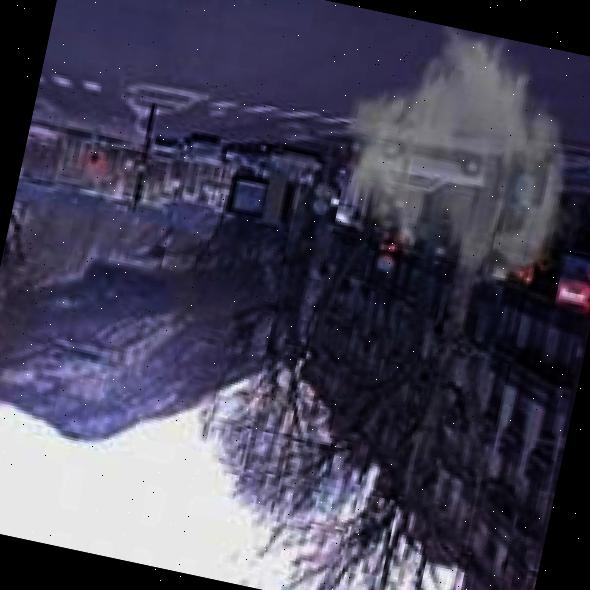smoke: (312, 8, 590, 303)
